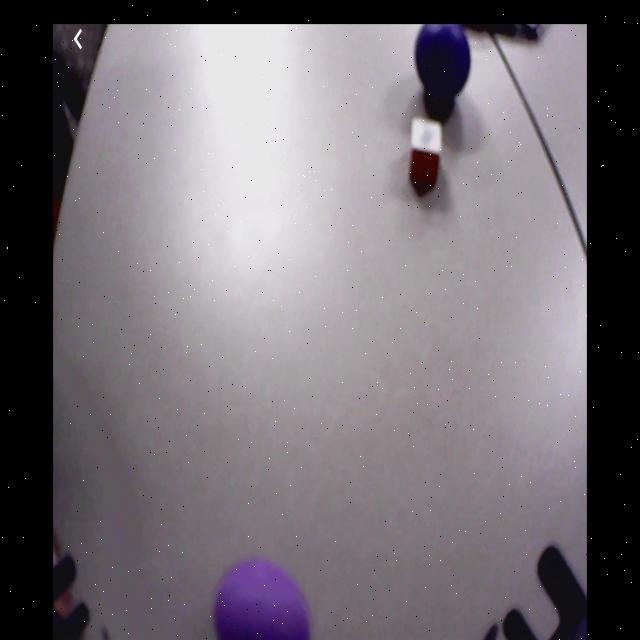ball: (216, 560, 313, 640), (415, 26, 473, 104)
